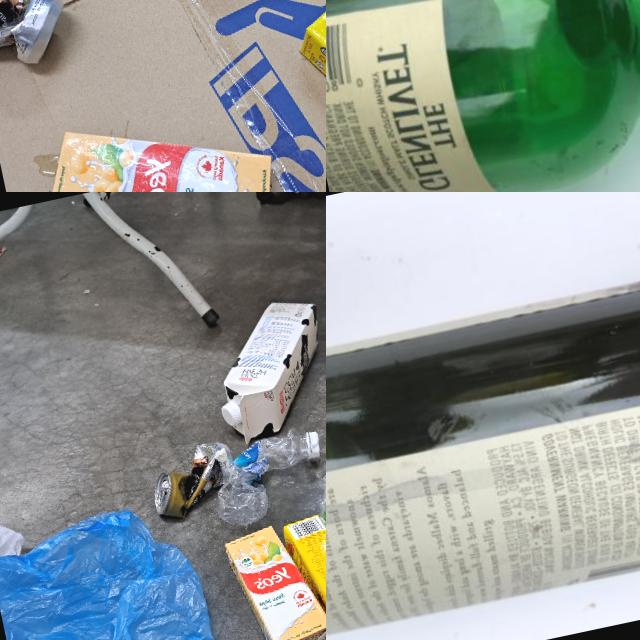aba de lata: (154, 486, 168, 506)
caixinha: (27, 90, 291, 192), (209, 292, 326, 445), (223, 516, 326, 640), (281, 504, 326, 640)
garrafa de vidro: (326, 270, 640, 640), (326, 0, 640, 192)
garrafa plástica: (203, 424, 323, 530)
lata: (144, 438, 242, 522), (0, 0, 74, 74)
papelão: (0, 0, 326, 192)
sacola plástica: (0, 495, 241, 640)
tampa plástica: (306, 430, 322, 459)
